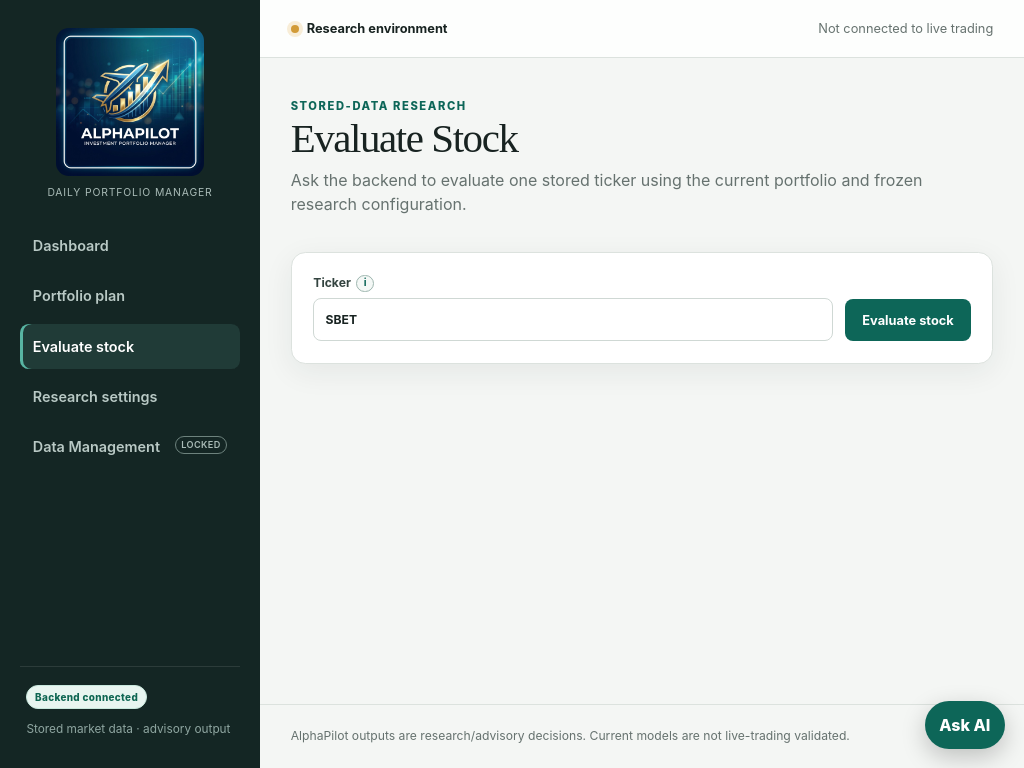
Test: requested date and prior completed analysis session are displayed distinctly
Click the button "Evaluate stock": (908, 320) x1=845 y1=299 x2=971 y2=341
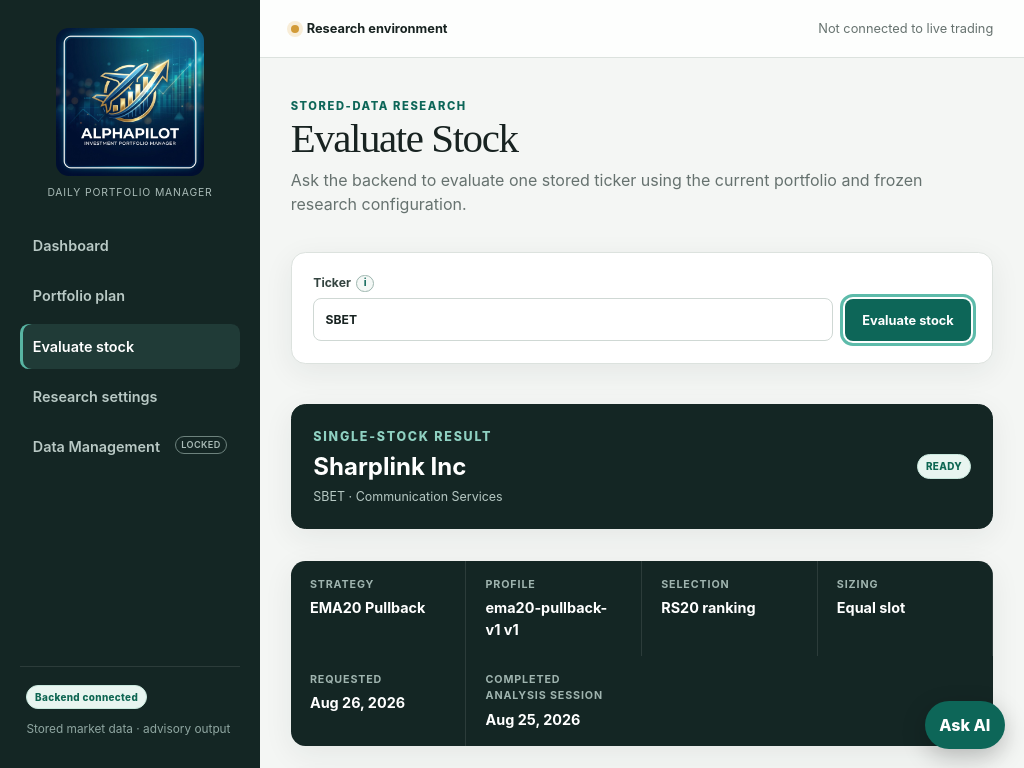
expect the text "Requested" is shown: met, box x1=310 y1=673 x2=382 y2=686
expect the text "Completed analysis session" is shown: met, box x1=486 y1=672 x2=623 y2=705
expect the text "Aug 25, 2026" is shown: met, box x1=486 y1=710 x2=580 y2=728
